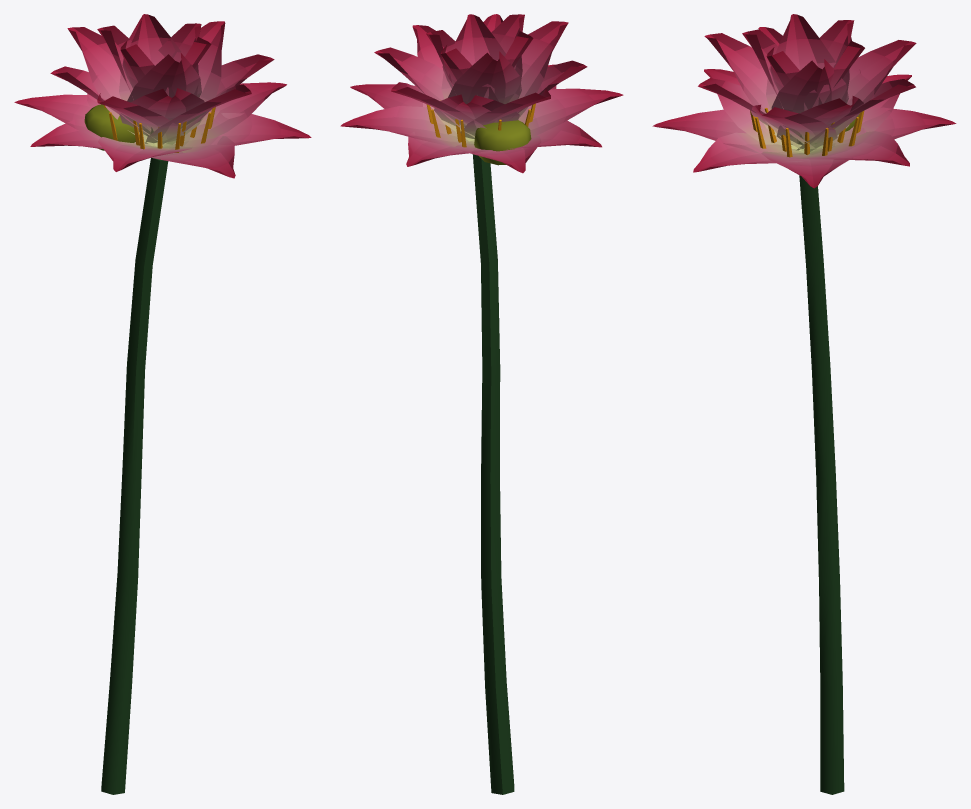
Rendered from lotus-flower-open.glb.
The picture shows the model from 3 angles, left to right: view 1: azimuth 30°, elevation 25°; view 2: azimuth 150°, elevation 25°; view 3: azimuth 270°, elevation 25°; orthographic projection. The views are drawn at different scales.
Visible parts, largest first — view 1: lotus-flower-open-petals, lotus-flower-open-stem, lotus-flower-open-core; view 2: lotus-flower-open-petals, lotus-flower-open-stem, lotus-flower-open-core; view 3: lotus-flower-open-petals, lotus-flower-open-stem, lotus-flower-open-core.
Boxes of the visible parts, x1=… form: lotus-flower-open-petals: x1=14, y1=14, x2=311, y2=178; lotus-flower-open-stem: x1=101, y1=158, x2=168, y2=794; lotus-flower-open-core: x1=84, y1=104, x2=215, y2=152; lotus-flower-open-petals: x1=340, y1=14, x2=623, y2=173; lotus-flower-open-stem: x1=472, y1=154, x2=514, y2=794; lotus-flower-open-core: x1=426, y1=100, x2=535, y2=165; lotus-flower-open-petals: x1=652, y1=14, x2=956, y2=188; lotus-flower-open-stem: x1=799, y1=175, x2=844, y2=794; lotus-flower-open-core: x1=750, y1=108, x2=864, y2=157.
Bounding box in the file's own units: 0.3617 × 1.02 × 0.3645.
